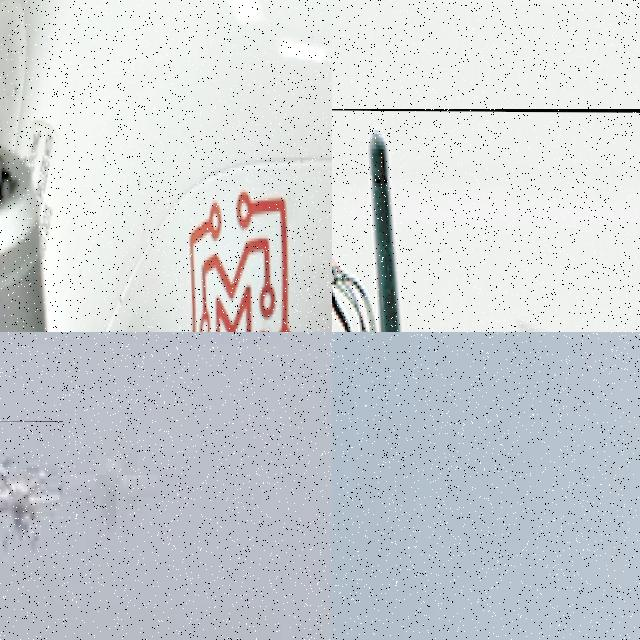0: (0, 421, 63, 567)
drone: (0, 0, 332, 332), (332, 109, 640, 332)
